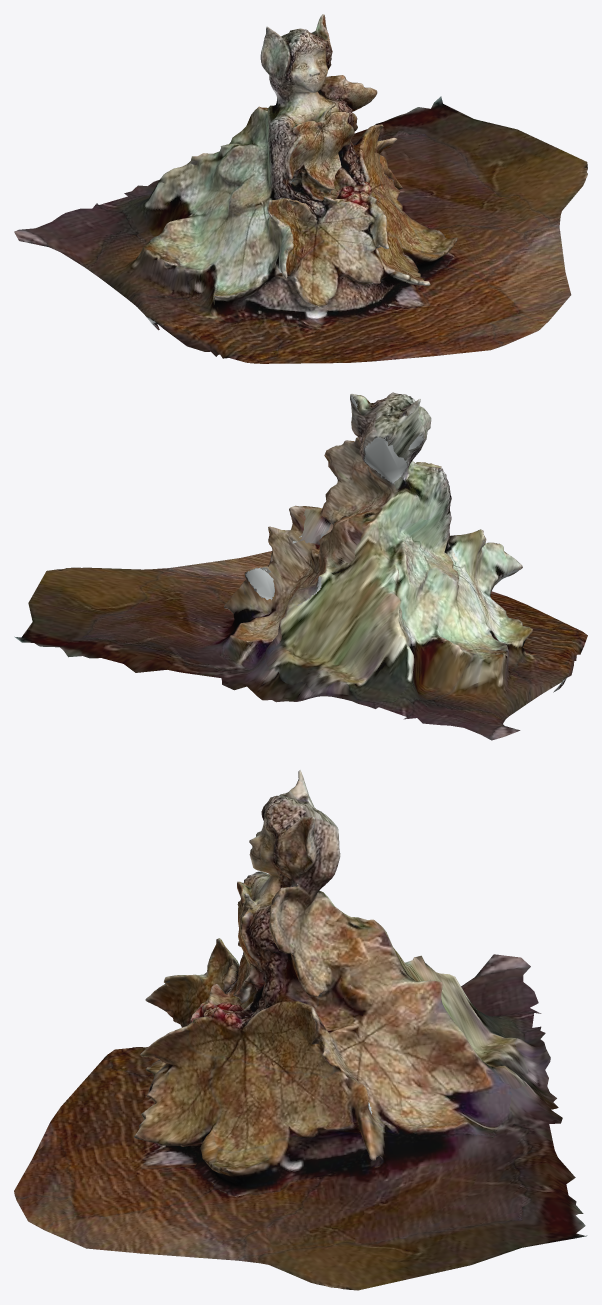
File: bladerina.glb
3 renders of one model, top to bottom at view 1: azimuth 30°, elevation 25°; view 2: azimuth 150°, elevation 25°; view 3: azimuth 270°, elevation 25°, orthographic. The views are drawn at different scales.
Parts seen in each view (by area): view 1: bladerina; view 2: bladerina; view 3: bladerina.
Boxes of the visible parts, x1,y1,x2,y2 form: bladerina: (14,14,587,363); bladerina: (14,392,587,740); bladerina: (14,770,587,1290).
Size of the model in its own units: 32.43 by 16.25 by 24.17.
2 materials, 2 textured.
